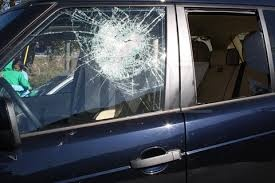Broken-glass: (61, 6, 171, 96)
